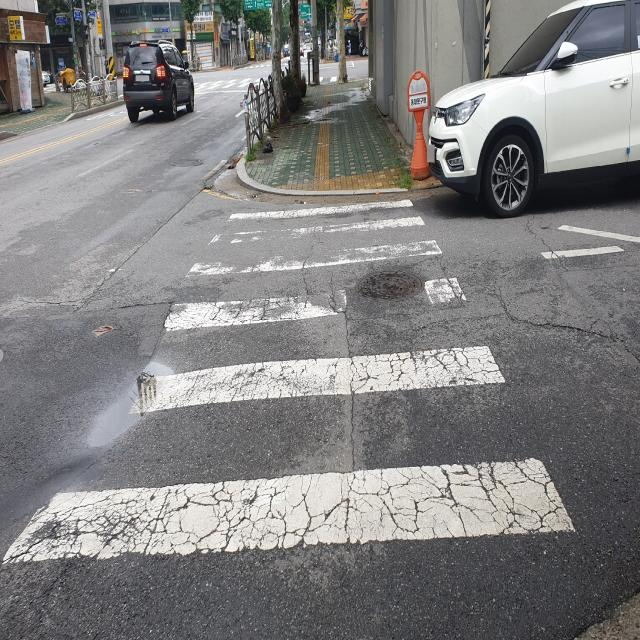횡단보도: (0, 195, 581, 568)
